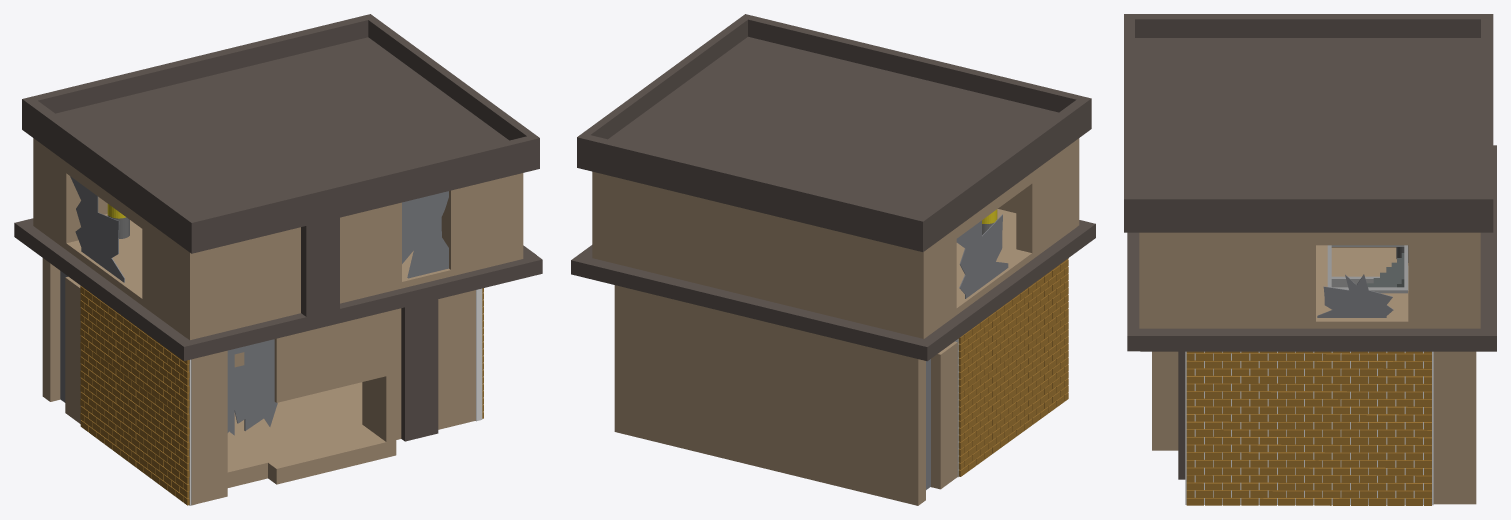
The model's file is 3lvlBuilding.fbx.
3 renders of one model, left to right at view 1: azimuth 30°, elevation 25°; view 2: azimuth 150°, elevation 25°; view 3: azimuth 270°, elevation 25°, orthographic. The views are drawn at different scales.
Visible parts, largest first — view 1: Cube.017, Cube.015, Cube.016; view 2: Cube.017, Cube.015, Cube.016; view 3: Cube.017, Cube.015, Cube.016.
Boxes of the visible parts, x1=… form: Cube.017: x1=14, y1=14, x2=542, y2=360; Cube.015: x1=42, y1=312, x2=483, y2=505; Cube.016: x1=42, y1=258, x2=483, y2=435; Cube.017: x1=571, y1=14, x2=1095, y2=361; Cube.015: x1=614, y1=315, x2=1068, y2=505; Cube.016: x1=614, y1=258, x2=1068, y2=423; Cube.017: x1=1124, y1=14, x2=1496, y2=351; Cube.015: x1=1152, y1=358, x2=1476, y2=505; Cube.016: x1=1152, y1=245, x2=1476, y2=415.
Bounding box in the file's own units: 5166 × 4081 × 4270.
